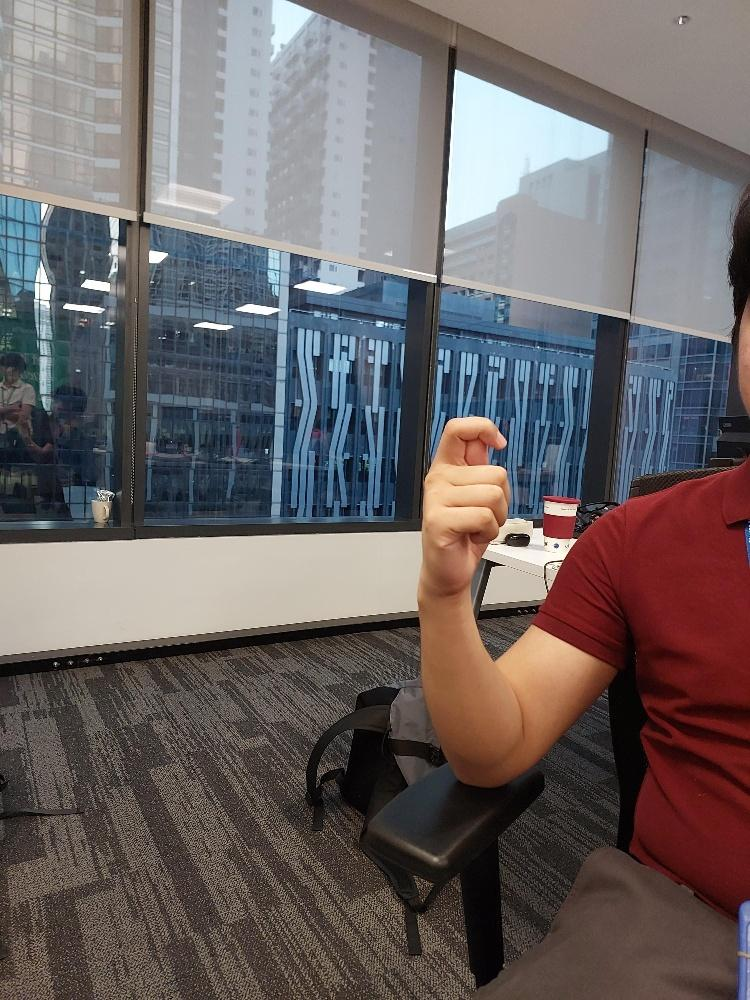t: (416, 414, 515, 596)
